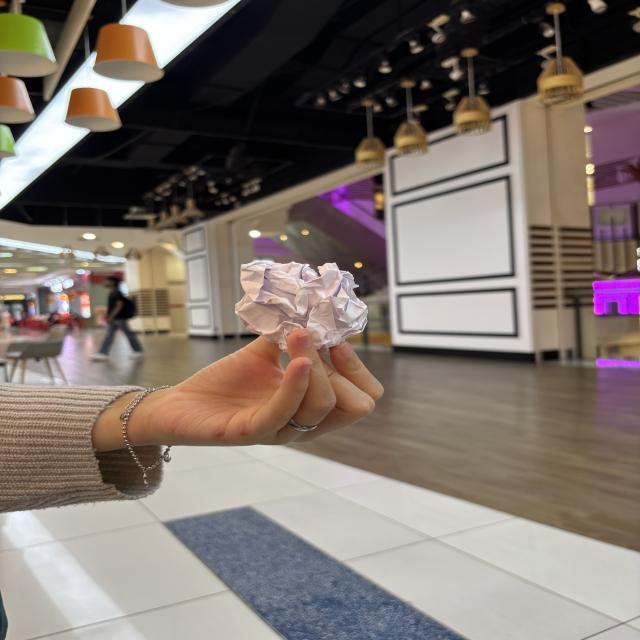crumpled_paper: (233, 251, 374, 362)
